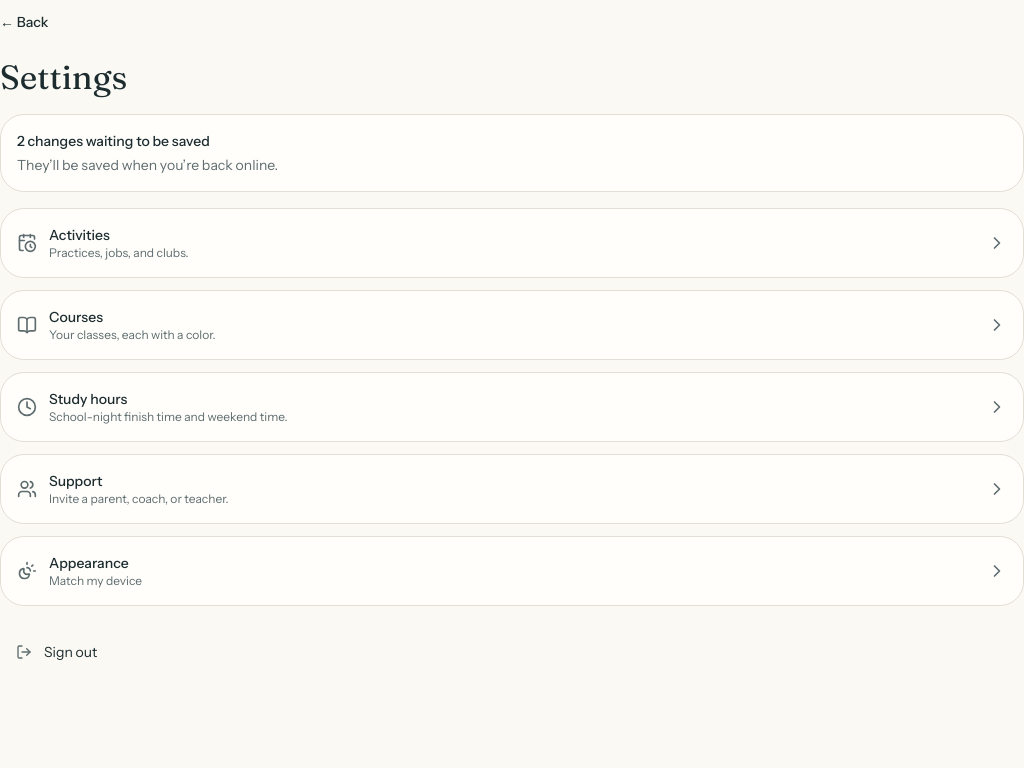
Test: SettingsPage › changes made offline (PWA phase 2, 2c) › signing out with changes waiting warns first; Stay signed in keeps them
The image size is (1024, 768).
Click the button "Sign out" at [71, 652], box [0,630,1023,674]
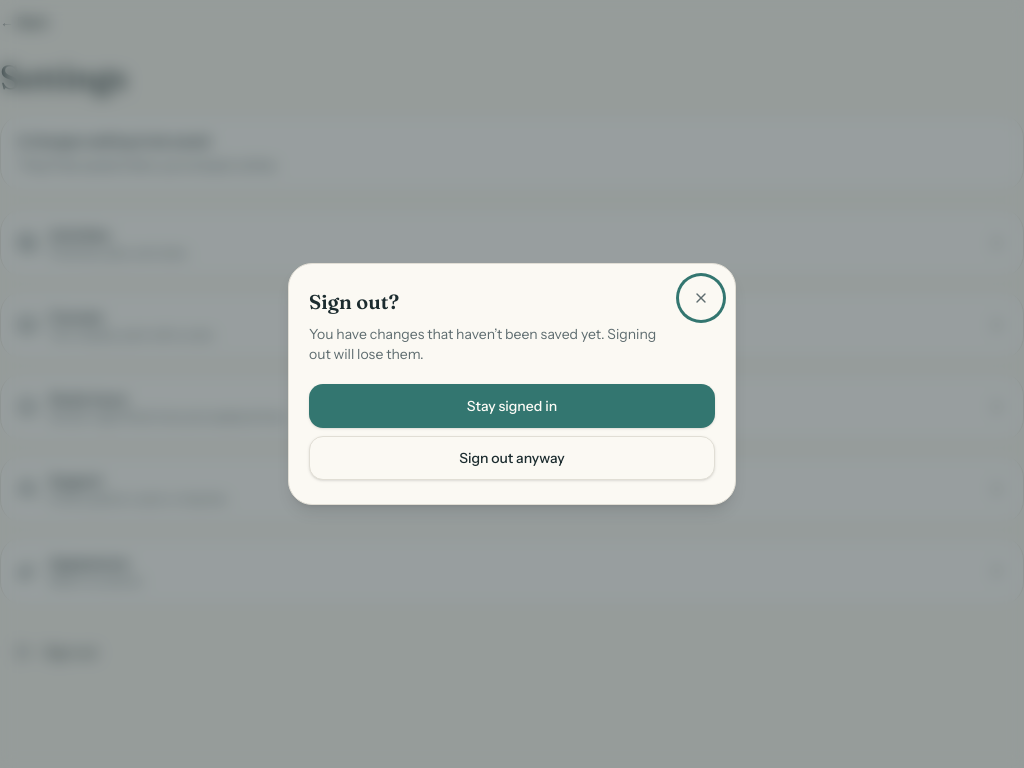
Now the dialog "Sign out?" shows "You have changes that haven’t been saved yet. Signing out will lose them.", box [309,325,656,363]
Click the button "Stay signed in" at [512, 406], box [309,384,715,428]
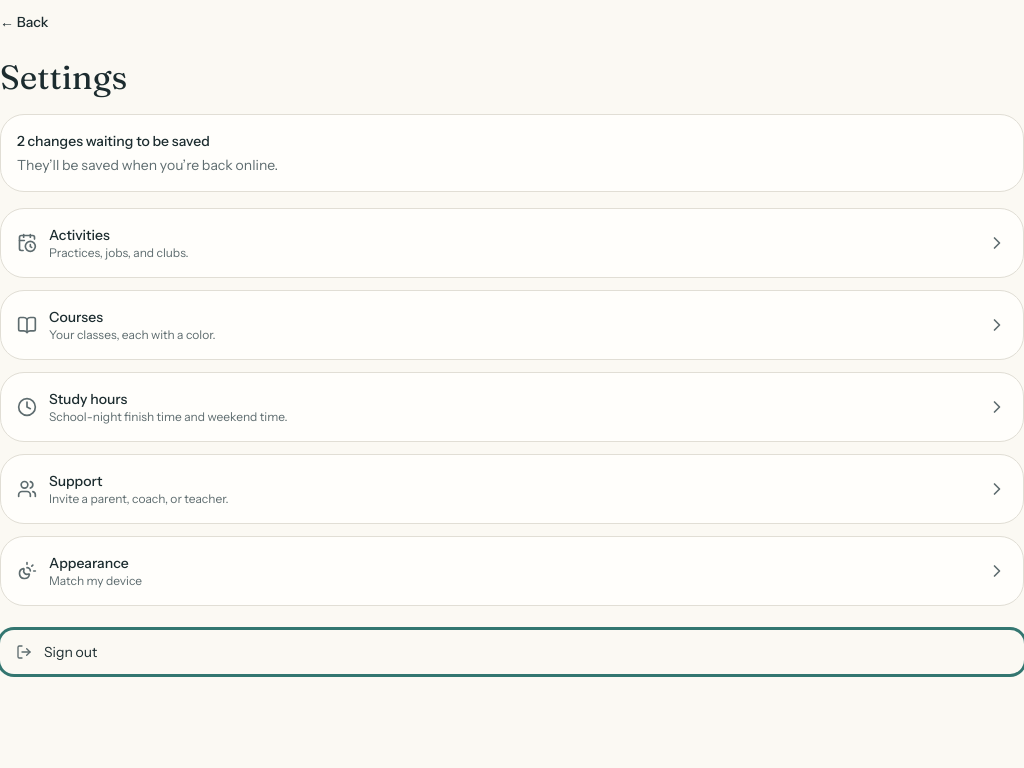
Now the dialog is gone
